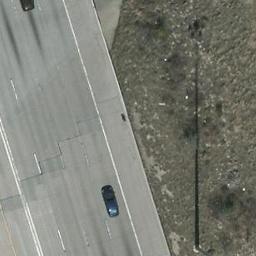car: (101, 186, 121, 217)
